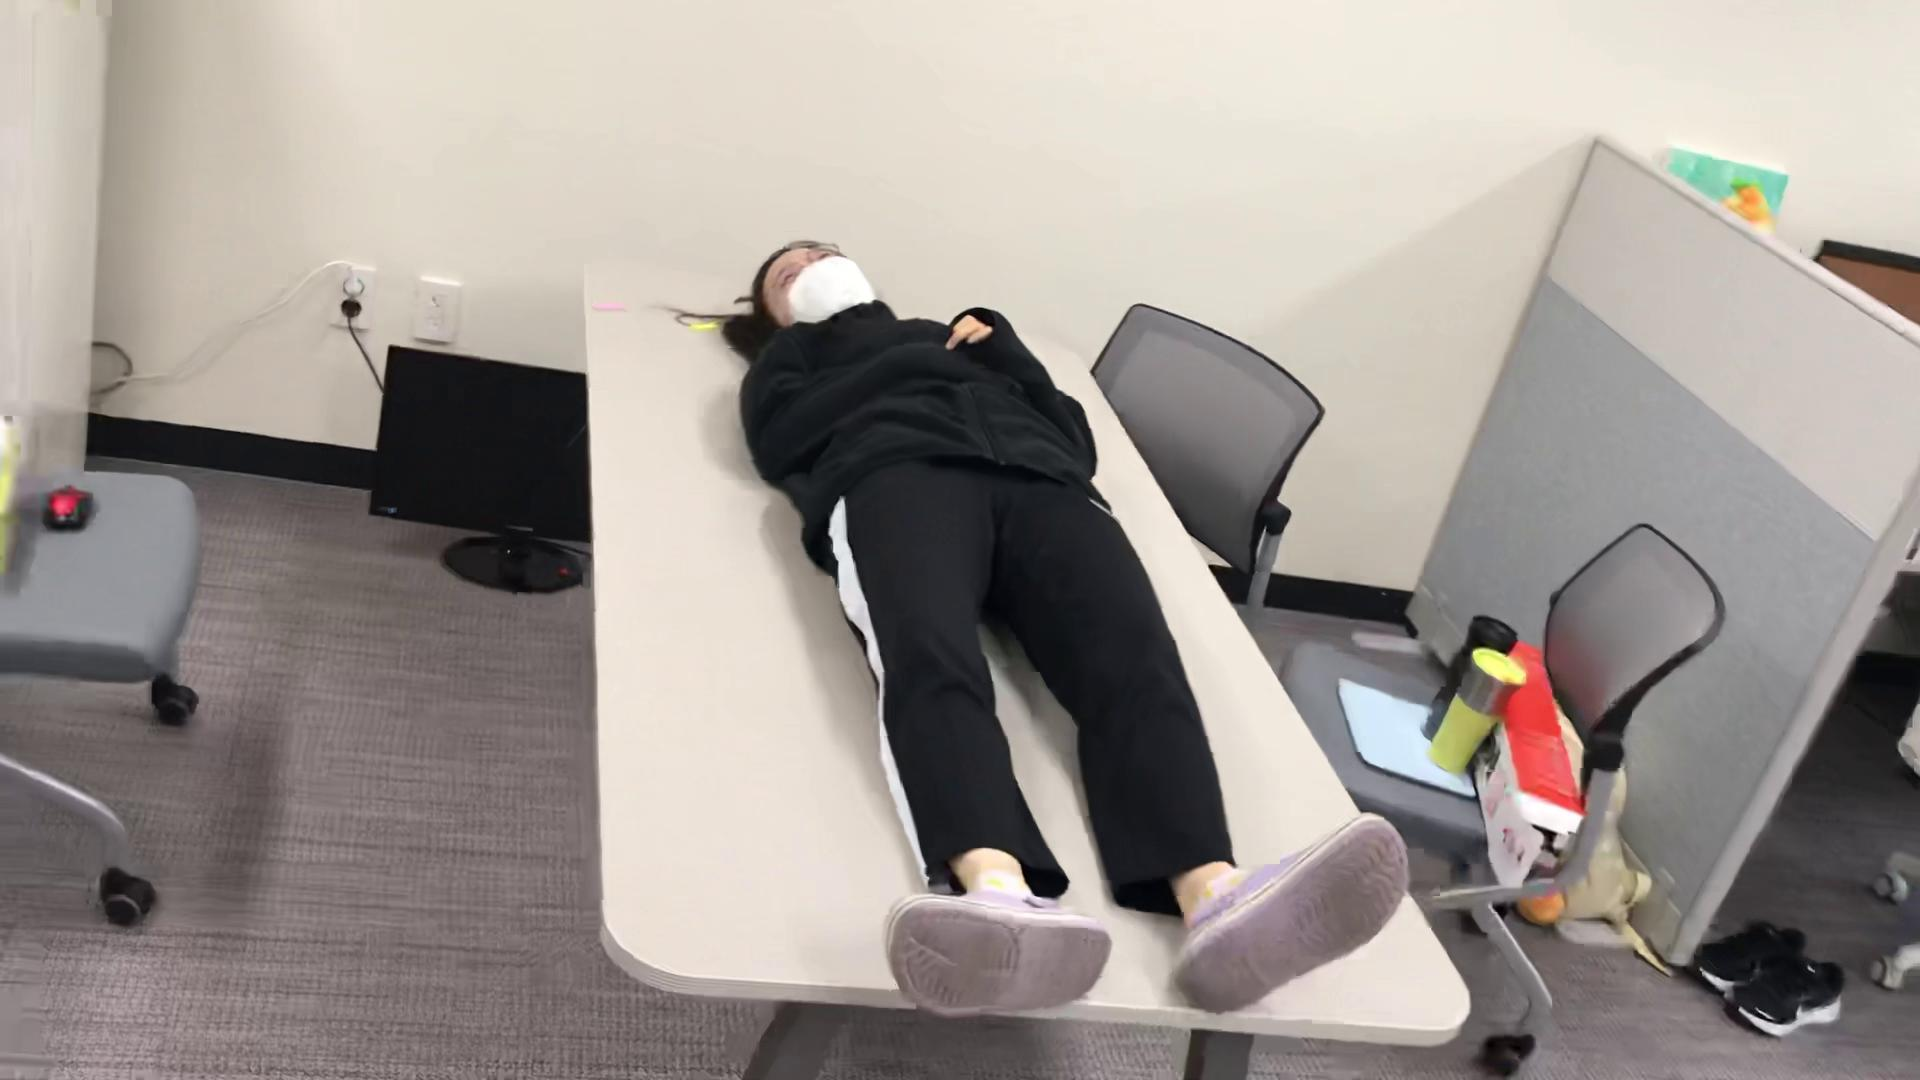sleep: (674, 235, 1420, 1029)
